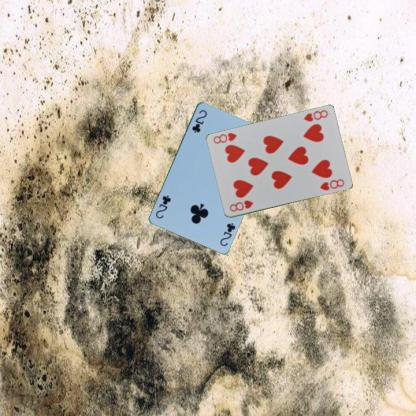2c: (189, 107, 208, 134), (218, 220, 236, 247)
8h: (301, 108, 329, 123), (227, 198, 254, 213)
